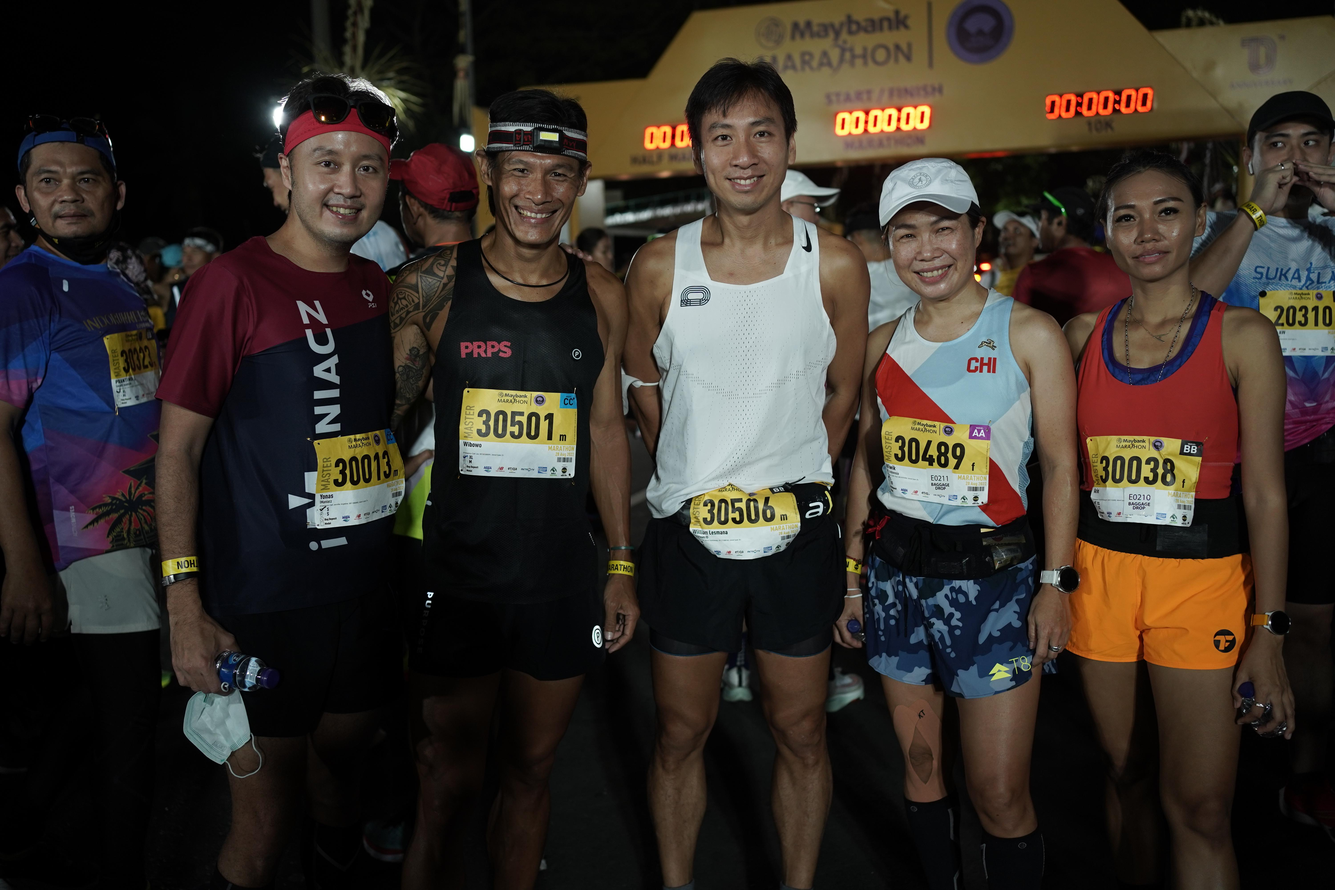bib: (1086, 434, 1196, 529), (461, 389, 577, 477), (882, 418, 987, 507), (308, 430, 408, 522), (691, 489, 799, 557), (1258, 289, 1335, 355), (103, 329, 165, 405)
